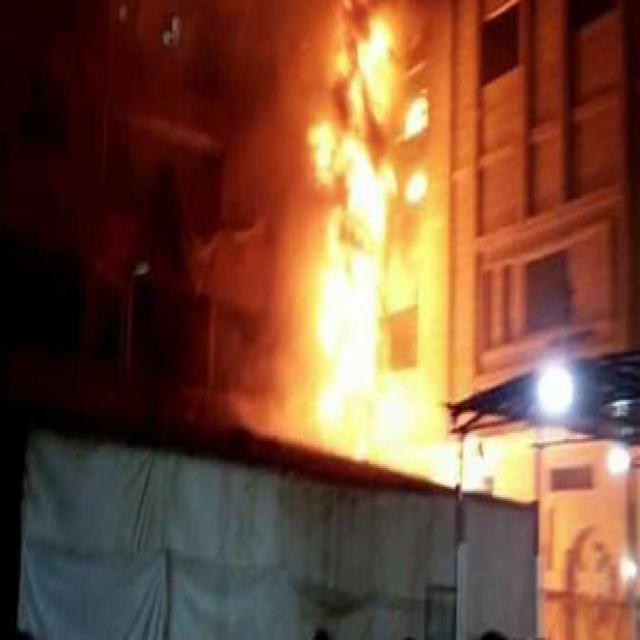Fire: (318, 4, 427, 454)
